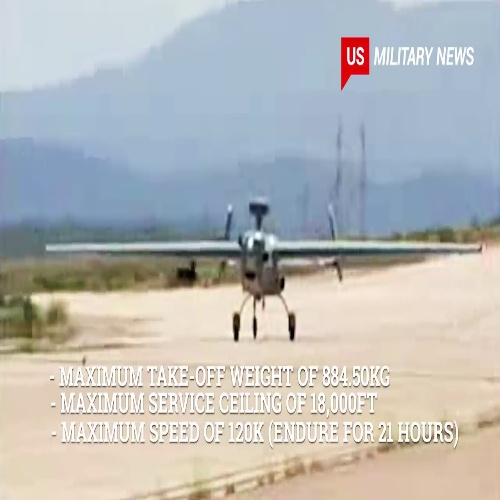uav: (45, 197, 485, 346)
